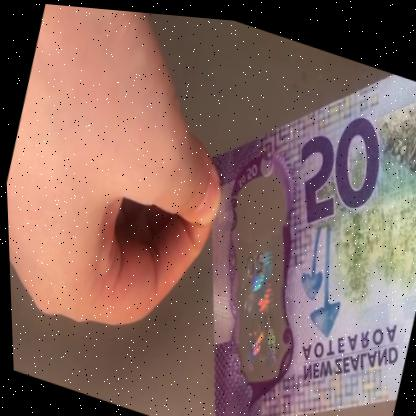50B: (201, 173, 316, 383)
